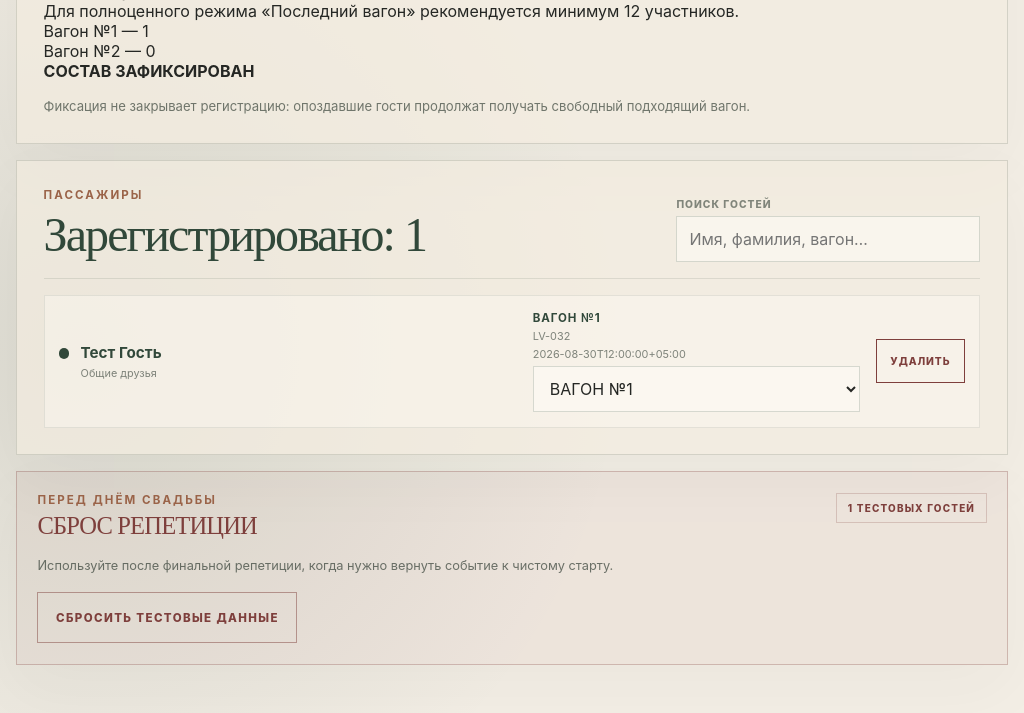
Test: AdminShell rehearsal reset › refreshes the whole dashboard after a guarded reset
(page scrolled)
Expected: the heading "Тест Гость" is shown, [81, 343, 162, 362]
Step 1. Click the button "СБРОСИТЬ ТЕСТОВЫЕ ДАННЫЕ" → [167, 618], box [38, 592, 297, 644]
(page scrolled)
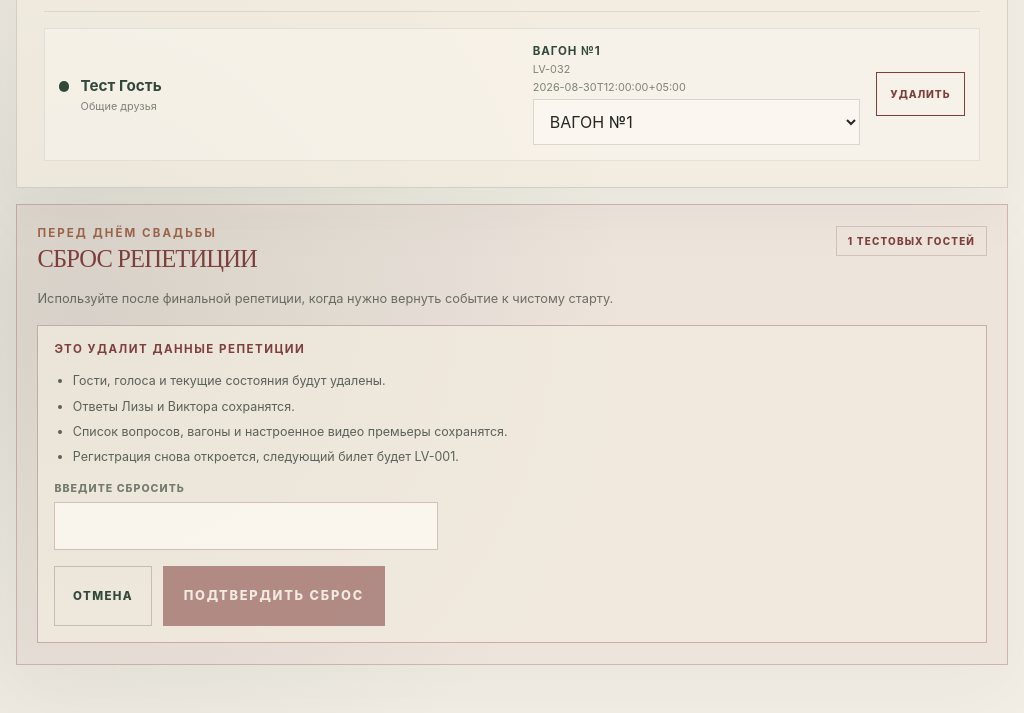
Step 2. Type "СБРОСИТЬ" into the field labelled "Введите СБРОСИТЬ" → [246, 526], box [54, 502, 438, 550]
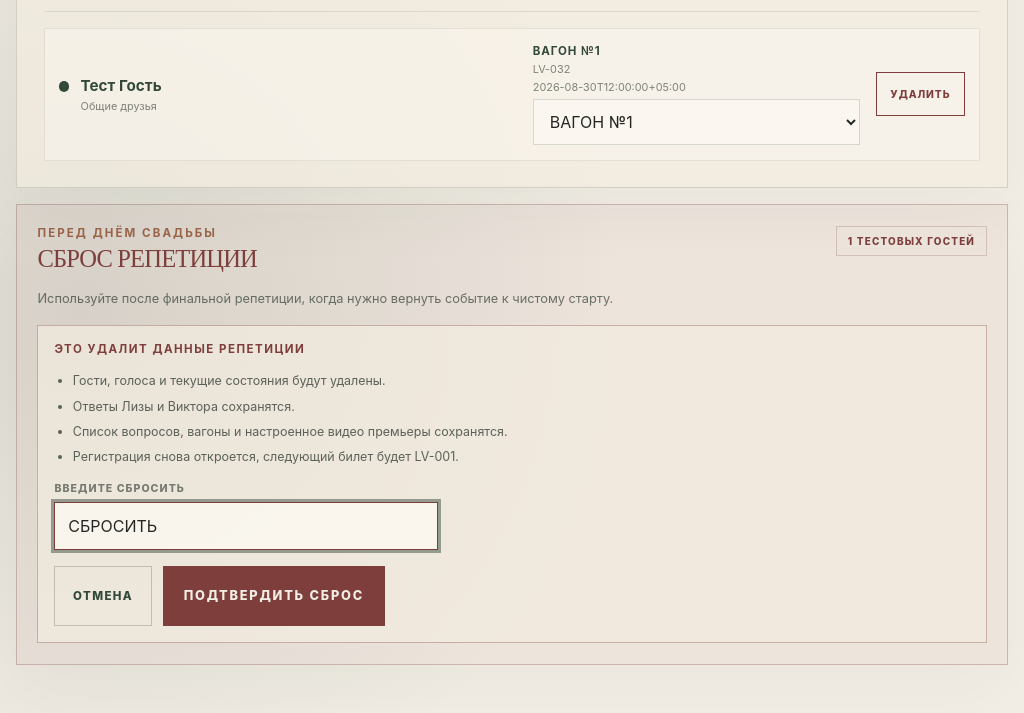
Step 3. Click the button "ПОДТВЕРДИТЬ СБРОС" → [274, 596], box [163, 566, 385, 626]
(page scrolled)
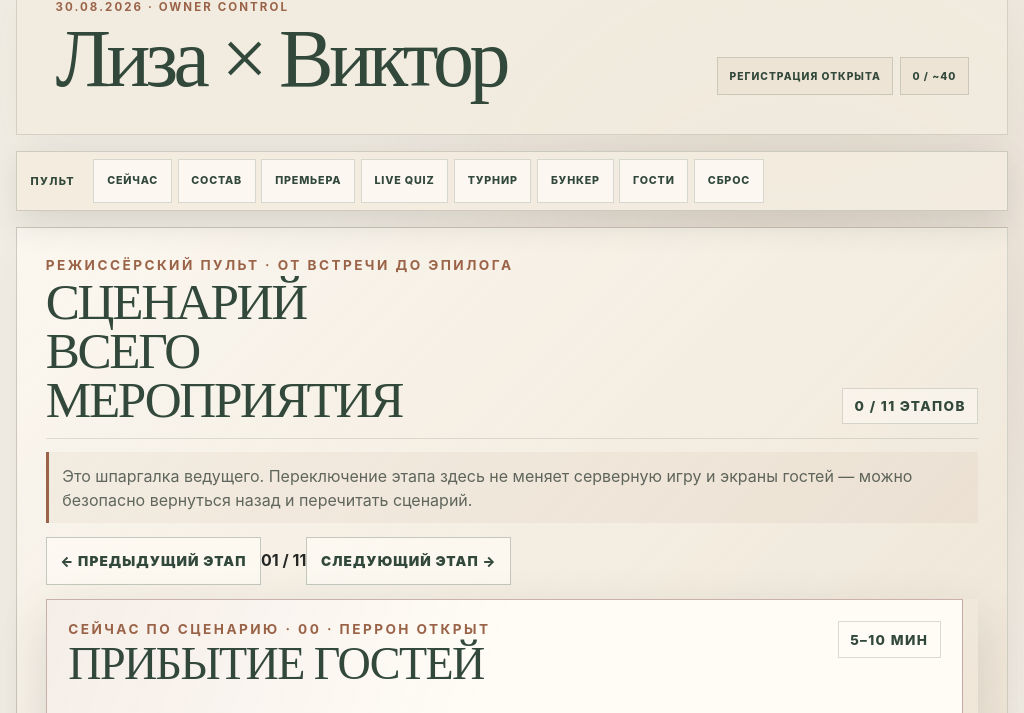
Expected: the text "РЕГИСТРАЦИЯ ОТКРЫТА" is shown, [717, 57, 893, 95]
Now the text "0 / ~40" is shown, box [900, 57, 969, 95]
Now the heading "Тест Гость" is gone
